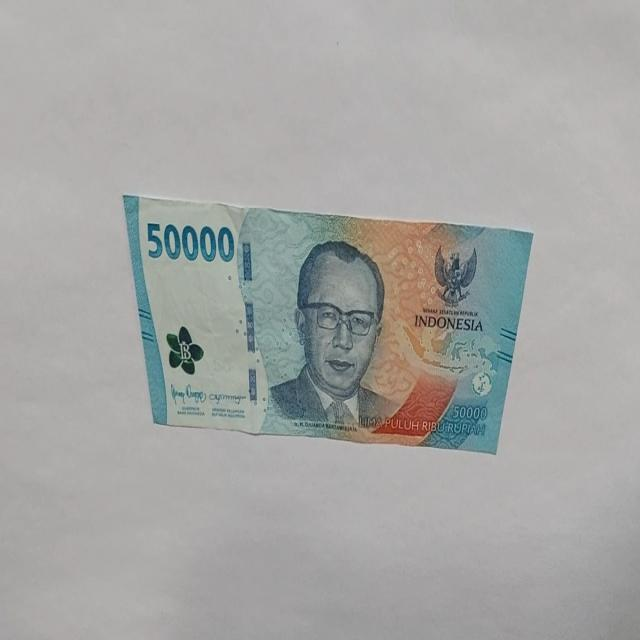lima puluh ribu rupiah: (121, 191, 534, 454), (267, 237, 400, 431), (145, 218, 235, 264)
